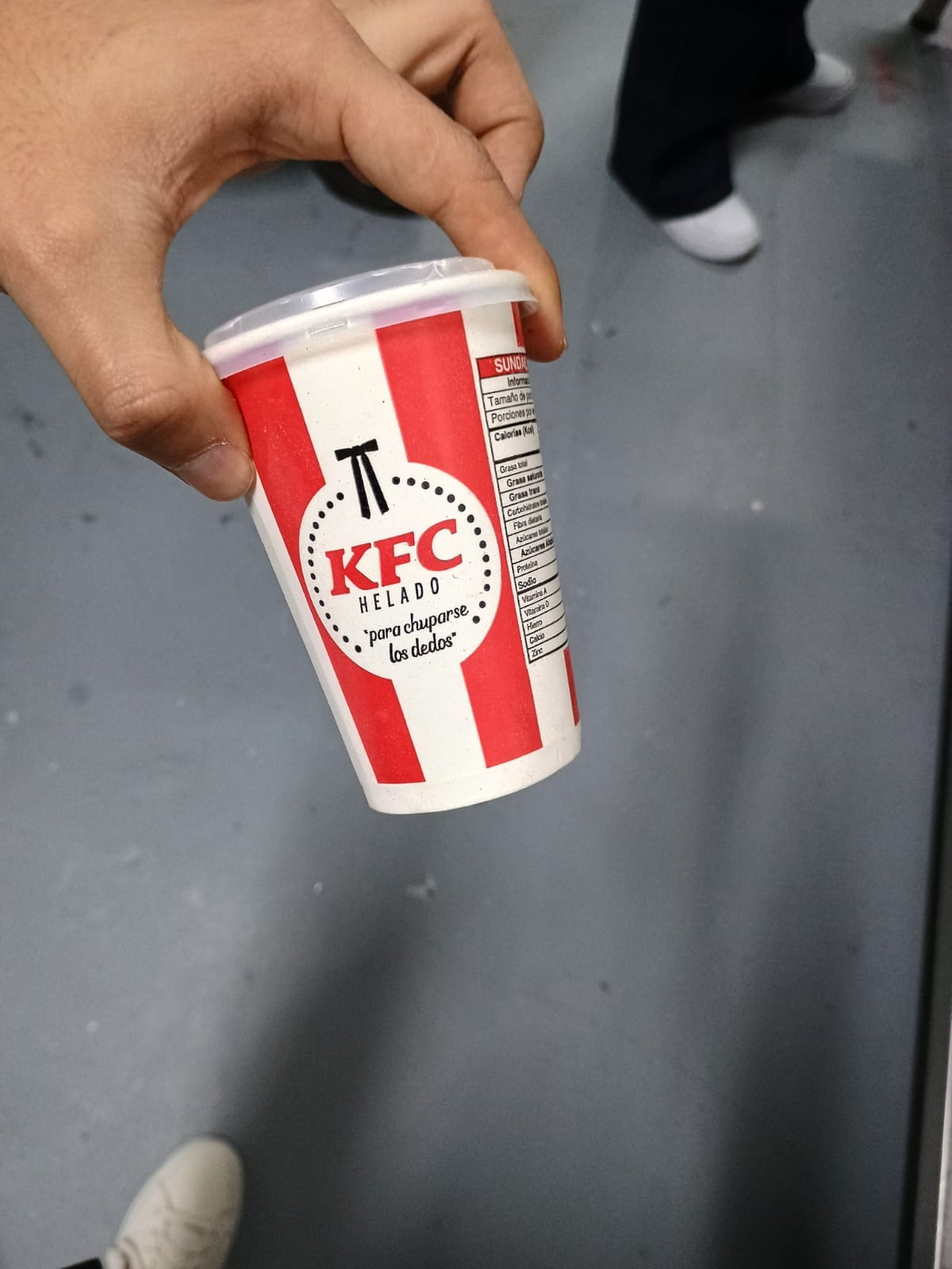Carton: (200, 258, 586, 814)
